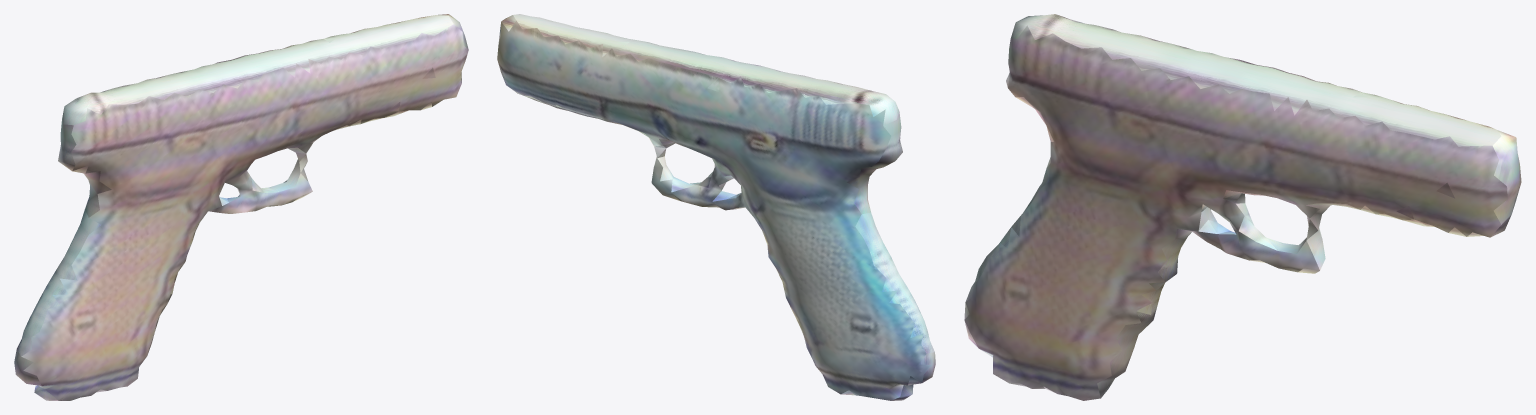
File: pistol2-glock.glb
3 renders of one model, left to right at view 1: azimuth 30°, elevation 25°; view 2: azimuth 150°, elevation 25°; view 3: azimuth 330°, elevation 25°, orthographic. The views are drawn at different scales.
Visible parts, largest first — view 1: geometry_0.014; view 2: geometry_0.014; view 3: geometry_0.014.
Part boxes in pixels (box(x1,y1,x2,y2)): geometry_0.014: box(14, 14, 468, 400); geometry_0.014: box(497, 14, 935, 400); geometry_0.014: box(964, 14, 1521, 400).
Size of the model in its own units: 0.262 by 0.1697 by 0.0375.
Materials: 1 (1 with a texture image).
